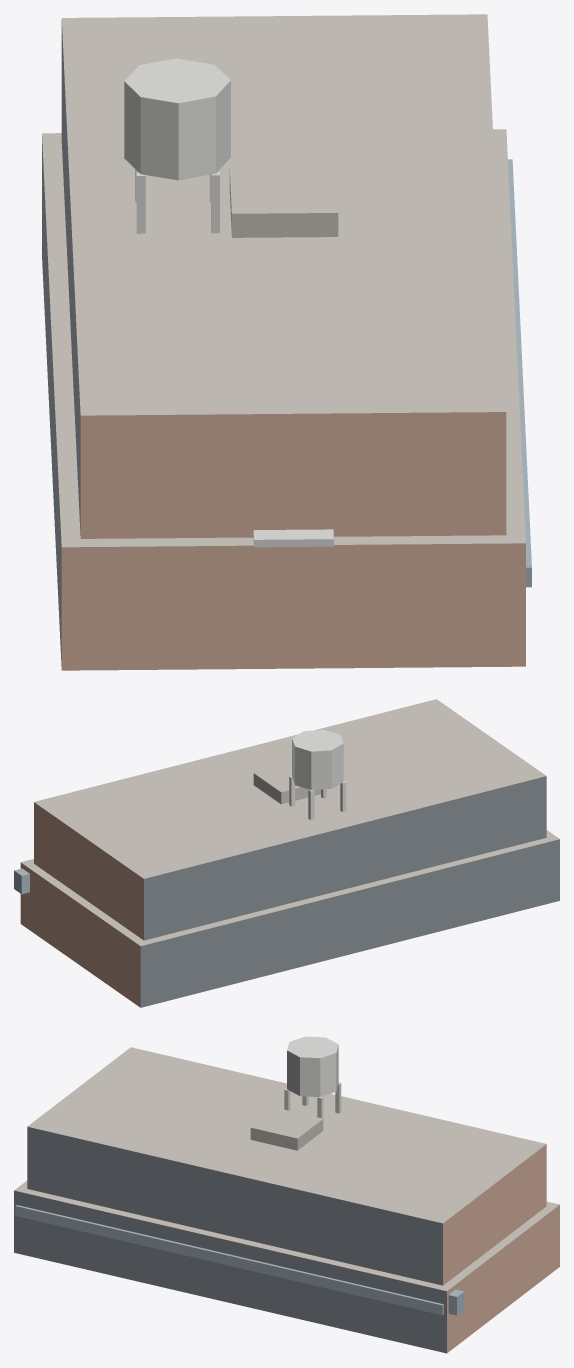
The model's file is doitt-262867__lod_1.glb.
The picture shows the model from 3 angles, top to bottom: view 1: azimuth 30°, elevation 25°; view 2: azimuth 150°, elevation 25°; view 3: azimuth 270°, elevation 25°; orthographic projection. The views are drawn at different scales.
Size of the model in its own units: 26.52 by 12.65 by 32.5.
